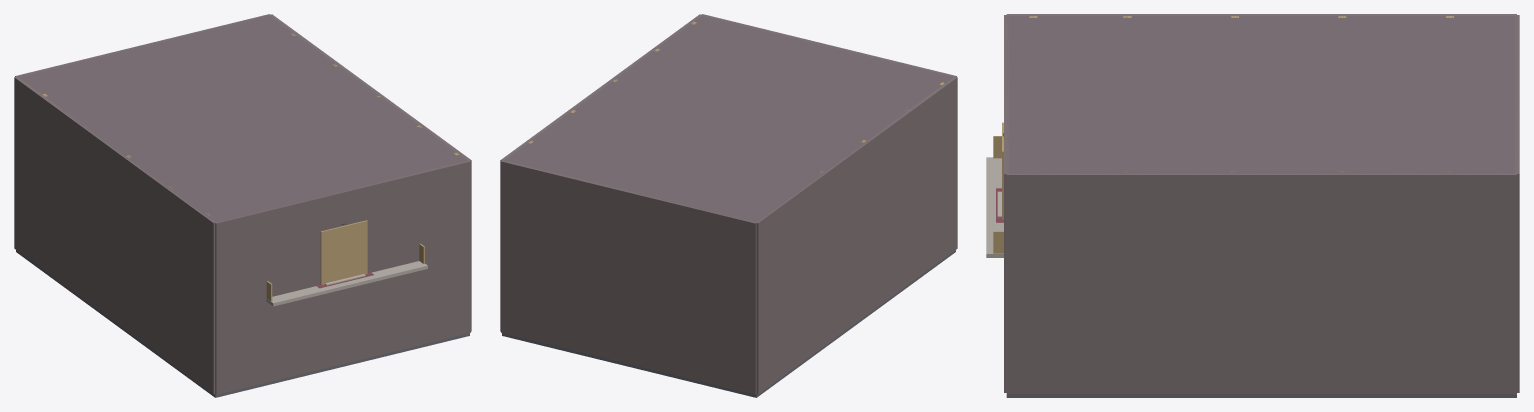
The model's file is special_main_hall.glb.
The picture shows the model from 3 angles, left to right: view 1: azimuth 30°, elevation 25°; view 2: azimuth 150°, elevation 25°; view 3: azimuth 270°, elevation 25°; orthographic projection. The views are drawn at different scales.
Visible parts, largest first — view 1: ceiling-cornice, rear-front-stone-1, wall-eastwest--1, elevator-portal-bronze, great-upper-gallery, black-marble-foundation, wall-eastwest-1, rear-front-stone--1; view 2: ceiling-cornice, rear-front-stone--1, wall-eastwest--1, black-marble-foundation, wall-eastwest-1, rear-front-stone-1; view 3: wall-eastwest-1, ceiling-cornice, black-marble-foundation, rear-front-stone--1, rear-front-stone-1, great-upper-gallery, wall-eastwest--1.
Boxes of the visible parts, x1,y1,x2,y2 form: ceiling-cornice: [19, 14, 467, 222]; rear-front-stone-1: [215, 160, 470, 394]; wall-eastwest--1: [14, 76, 216, 394]; elevator-portal-bronze: [320, 220, 367, 285]; great-upper-gallery: [266, 261, 427, 306]; black-marble-foundation: [16, 250, 469, 397]; wall-eastwest-1: [269, 14, 471, 331]; rear-front-stone--1: [15, 14, 269, 76]; ceiling-cornice: [505, 15, 952, 222]; rear-front-stone--1: [501, 160, 756, 394]; wall-eastwest--1: [756, 76, 957, 394]; black-marble-foundation: [502, 250, 955, 397]; wall-eastwest-1: [500, 14, 702, 331]; rear-front-stone-1: [702, 14, 956, 76]; wall-eastwest-1: [1006, 173, 1516, 394]; ceiling-cornice: [1006, 15, 1516, 173]; black-marble-foundation: [1006, 394, 1516, 397]; rear-front-stone--1: [1514, 15, 1519, 392]; rear-front-stone-1: [1004, 15, 1008, 392]; great-upper-gallery: [986, 157, 1003, 257]; wall-eastwest--1: [1006, 14, 1516, 15].
Bounding box in the file's own units: 28.37 × 18.4 × 39.68.
